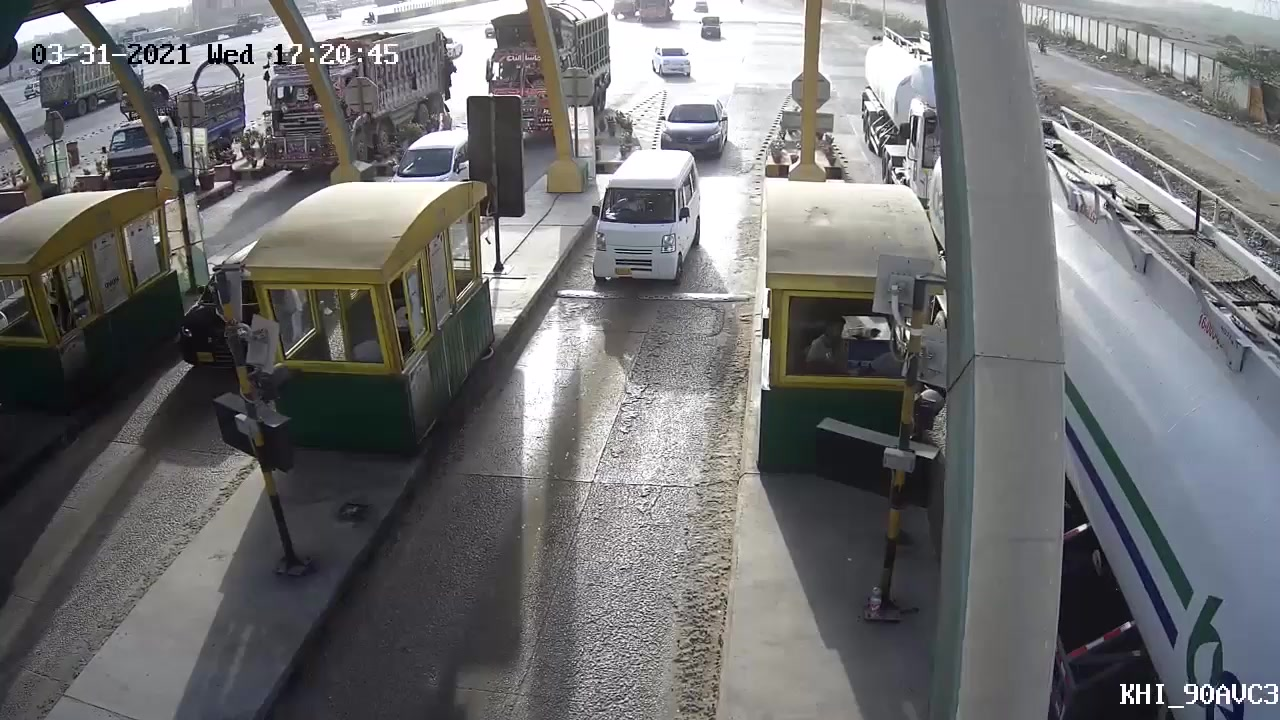F1: (572, 148, 701, 283)
